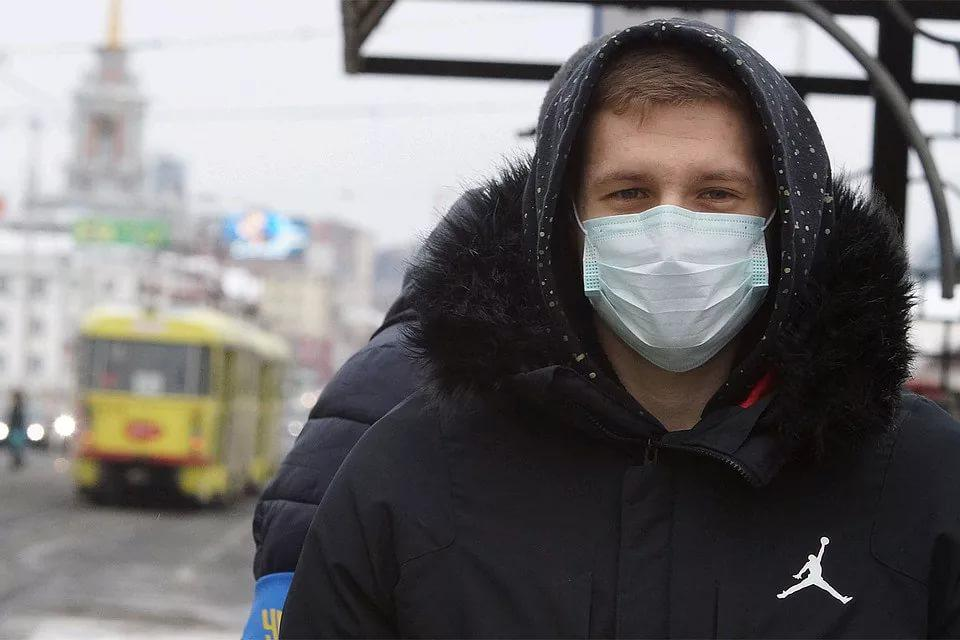mask: (572, 103, 779, 360)
